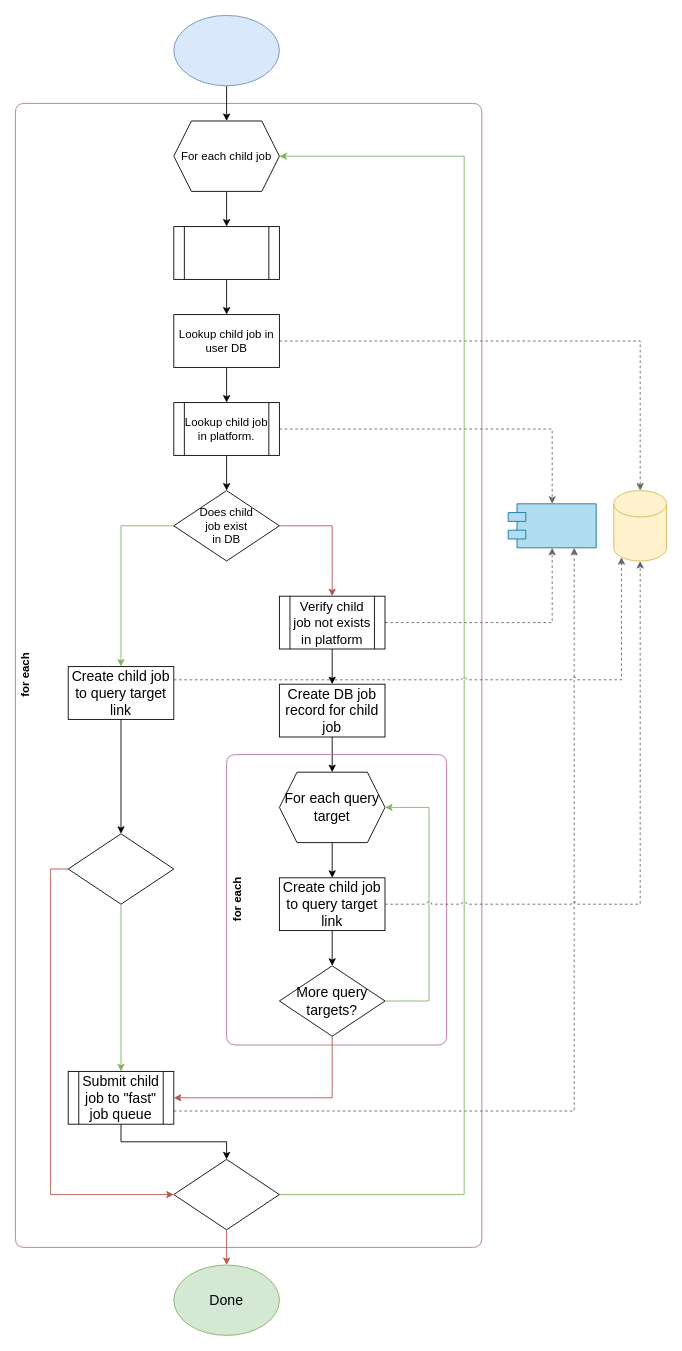
Some shapes in this 682 by 1351 pixel diagram are drawn without their labels. Here are the shapes that lost their labels. From the top down, the centre of each, then its label:
At (x=226, y=50): "Start".
At (x=226, y=252): "Generate child job hash".
At (x=551, y=525): "Async Platform".
At (x=640, y=525): "User DB".
At (x=120, y=868): "Is job expired?".
At (x=226, y=1194): "More child jobs?".
